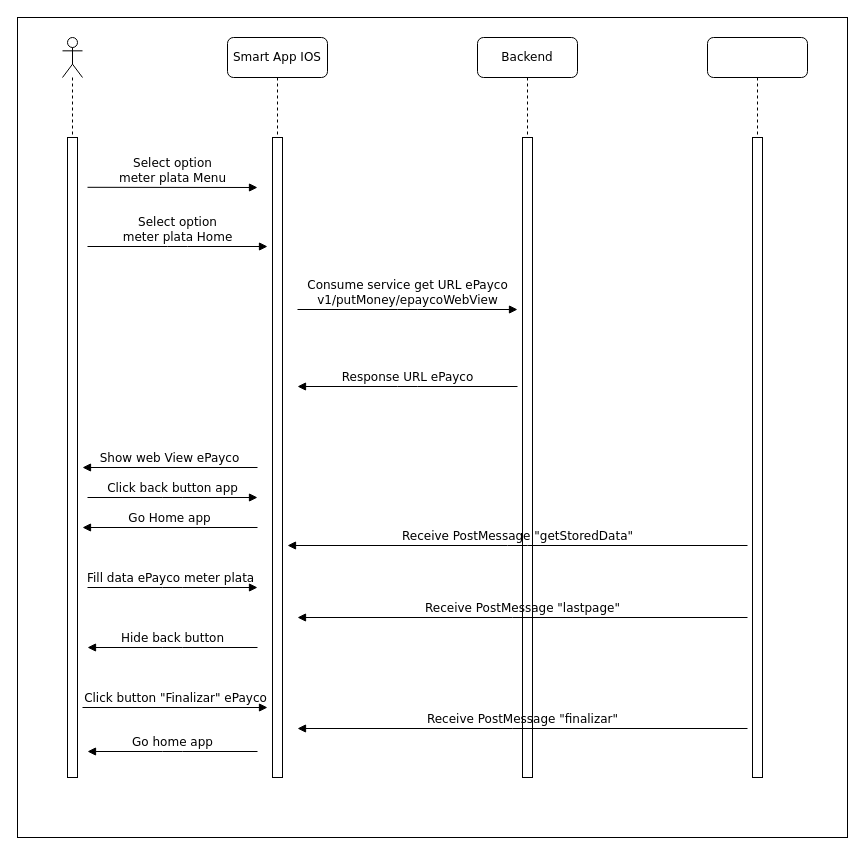
Some shapes in this 865 by 855 pixel diagram are drawn without their labels. Each missing label, with the box of its shape:
Epayco: (706, 36, 808, 778)
User: (62, 36, 82, 338)
